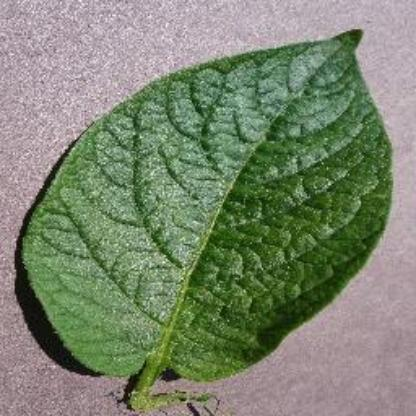Healthy-plant: (26, 22, 396, 392)
